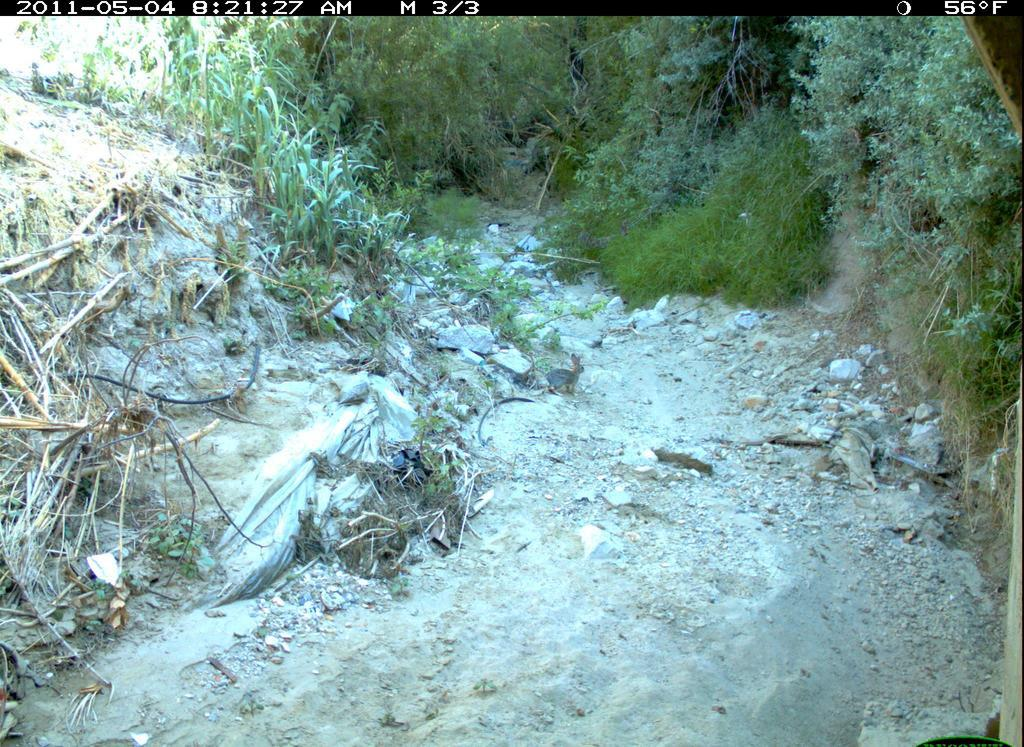rabbit: (545, 350, 589, 402)
